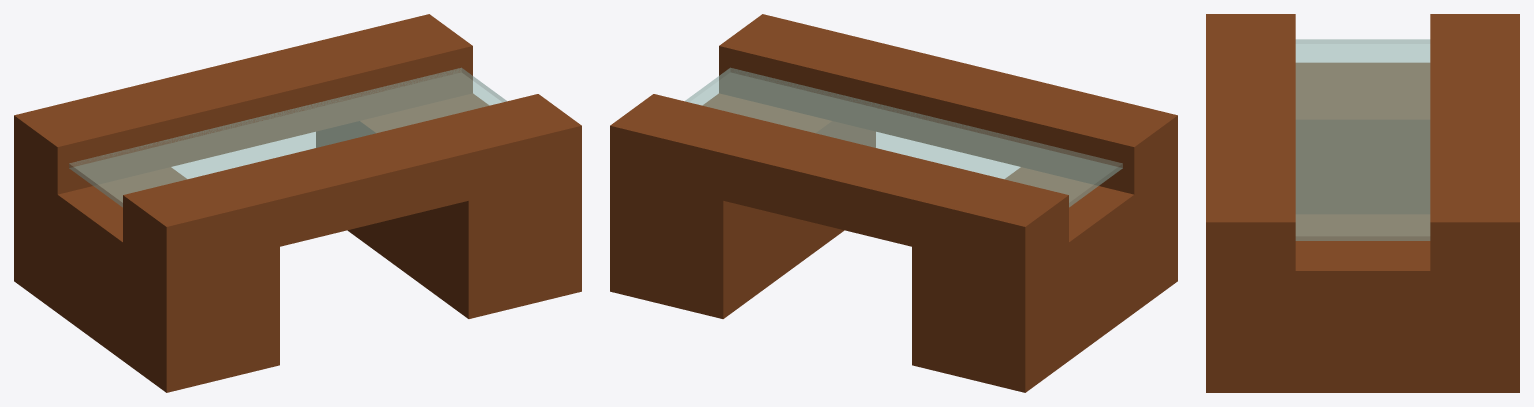
Rendered from mesa-elegance.glb.
The picture shows the model from 3 angles, left to right: view 1: azimuth 30°, elevation 25°; view 2: azimuth 150°, elevation 25°; view 3: azimuth 270°, elevation 25°; orthographic projection. The views are drawn at different scales.
Parts seen in each view (by area): view 1: mesa-elegance; view 2: mesa-elegance; view 3: mesa-elegance.
Part boxes in pixels (x1,y1,x2,y2): mesa-elegance: (14, 14, 581, 392); mesa-elegance: (610, 14, 1177, 392); mesa-elegance: (1206, 14, 1519, 392).
Size of the model in its own units: 1.1 by 0.42 by 0.7.
